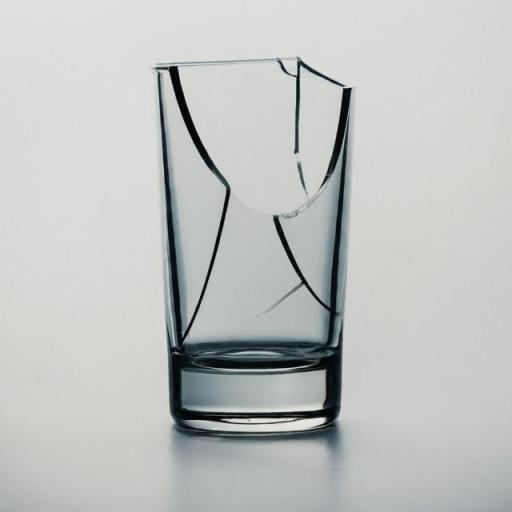glass: (137, 42, 362, 444)
